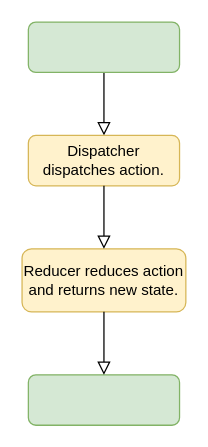
Some shapes in this 208 by 447 pixel diagram are drawn without their labels. The box of each missing label's shape, as (x1, y1, x2, y2) in pixels:
Page is rerendered according to state.: (27, 374, 180, 425)
User input: (27, 21, 180, 72)
